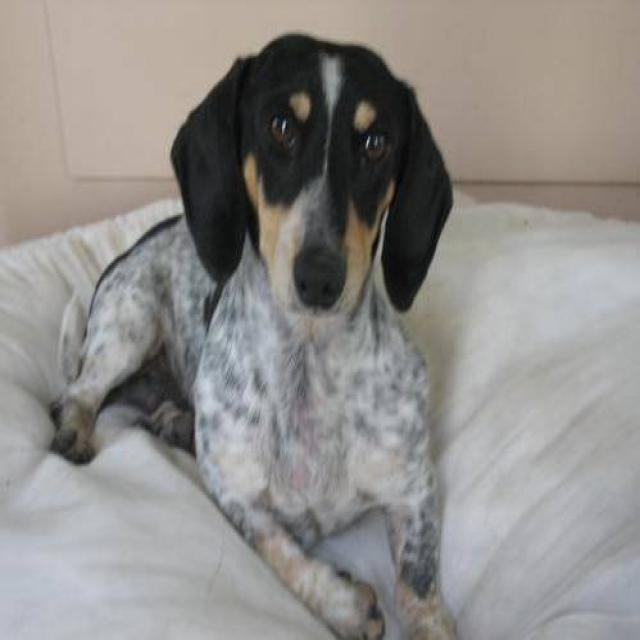dog: (48, 31, 464, 638)
